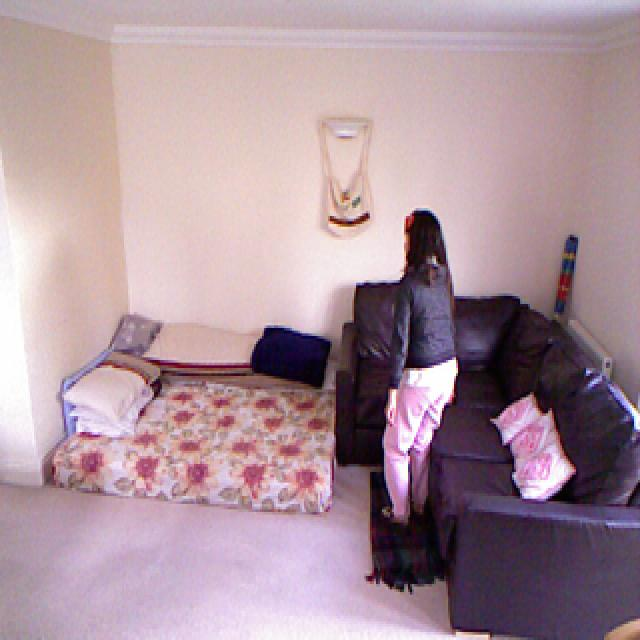standing: (377, 193, 459, 535)
